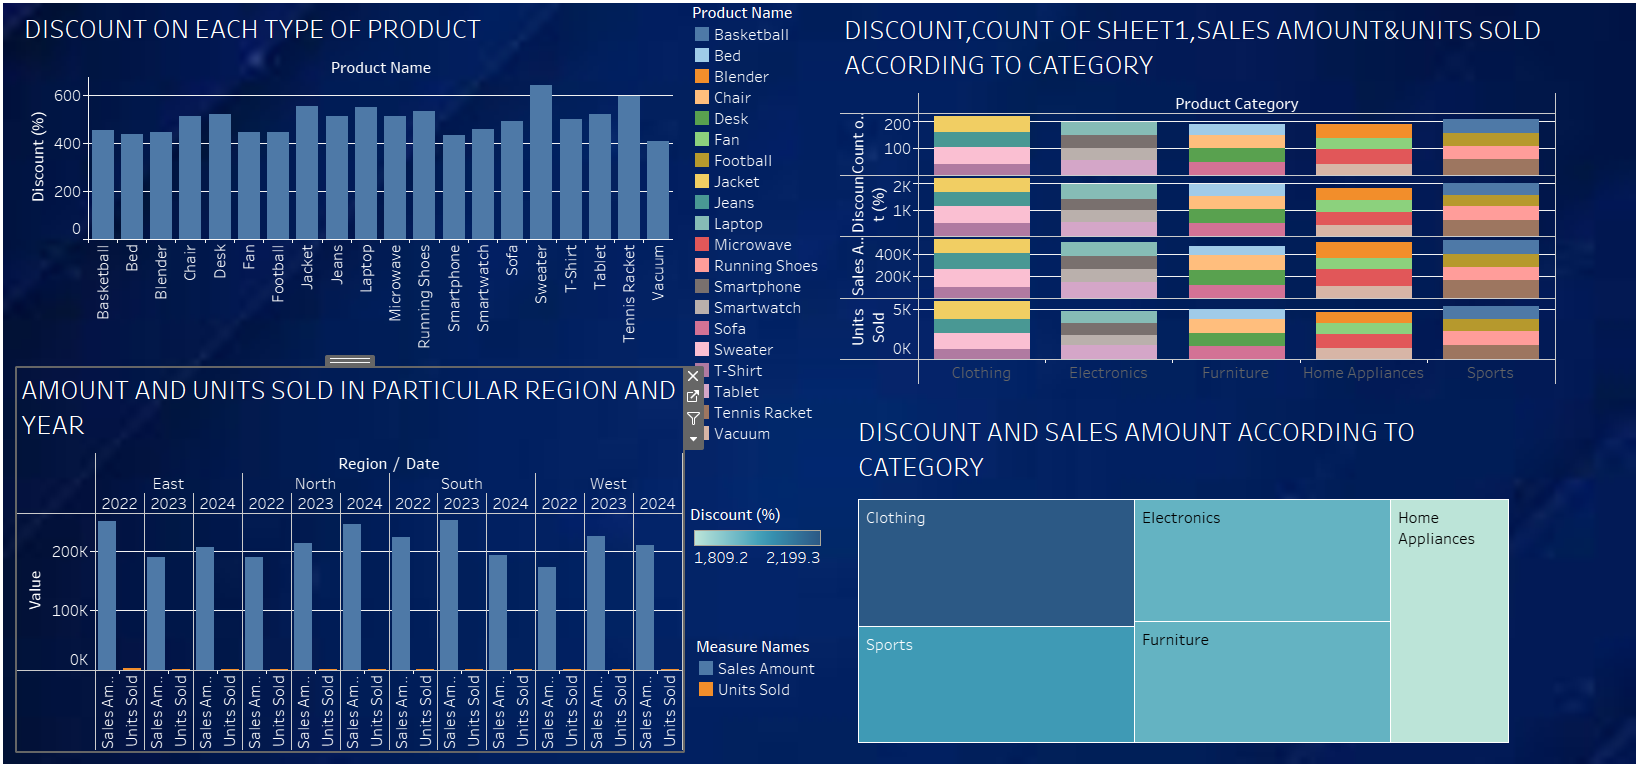

The dashboard page shown, as its layout file describes it:
{"tool":"tableau","page":{"name":"Dashboard 1","canvas":[1000,1000],"units":"permille","ordinal":0},"visuals":[{"type":"image","param":"C:/Users/Akshi/Desktop/images.jpg","box":[4.8,10,990.3,980]},{"type":"legend","title":"CATEGORY","param":"[federated.176gm7k0j3ik8r10h8boi1anbwhy].[none:Product Name:nk]","box":[423.3,24.3,81.4,581.3]},{"type":"worksheet","title":"DISCOUNT","mark":"Automatic","rows":["Discount (%)"],"cols":["Product Name"],"box":[17.5,30,394.1,439.4]},{"type":"worksheet","title":"CATEGORY","mark":"Automatic","rows":["Sheet1_C2D61D63B31C43929001A180B7E8E8A0","Discount (%)","Sales Amount","Units Sold"],"cols":["Product Category"],"box":[512.2,30.7,432,471.2]},{"type":"worksheet","title":"AMOUNT AND UNITS SOLD","mark":"Bar","cols":["Region","Date"],"box":[15.7,480.7,401.9,478.2]},{"type":"worksheet","title":"DISCOUNT AND SALES AMOUNT","mark":"Automatic","box":[520.9,532.6,425.6,420]},{"type":"legend","title":"DISCOUNT AND SALES AMOUNT","param":"[federated.176gm7k0j3ik8r10h8boi1anbwhy].[sum:Discount (%):qk]","box":[422.1,650.5,81.4,112.7]},{"type":"legend","title":"AMOUNT AND UNITS SOLD","param":"[federated.176gm7k0j3ik8r10h8boi1anbwhy].[:Measure Names]","box":[425.6,815.6,81.4,135.7]}]}

Visuals, with their boxes on the dashboard's canvas, which has no fixed pixel size, in thousandths of its width and height (x1, y1, x2, y2). These are canvas units, not pixel positions in the 1644x770 screenshot, which may show the page scaled, cropped or inside an application window:
image: x1=5, y1=10, x2=995, y2=990
"CATEGORY" legend: x1=423, y1=24, x2=505, y2=606
"DISCOUNT" worksheet: x1=18, y1=30, x2=412, y2=469
"CATEGORY" worksheet: x1=512, y1=31, x2=944, y2=502
"AMOUNT AND UNITS SOLD" worksheet (Bar marks): x1=16, y1=481, x2=418, y2=959
"DISCOUNT AND SALES AMOUNT" worksheet: x1=521, y1=533, x2=946, y2=953
"DISCOUNT AND SALES AMOUNT" legend: x1=422, y1=650, x2=504, y2=763
"AMOUNT AND UNITS SOLD" legend: x1=426, y1=816, x2=507, y2=951
